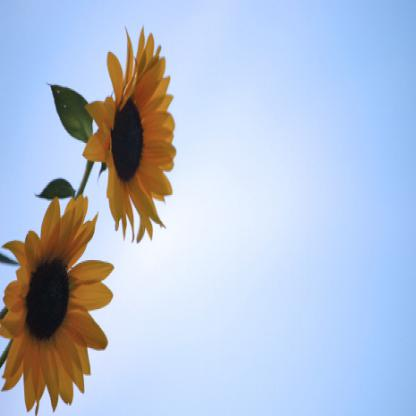SUN FLOWER: (8, 14, 196, 401)
